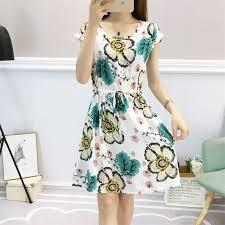dress: (66, 18, 187, 199)
